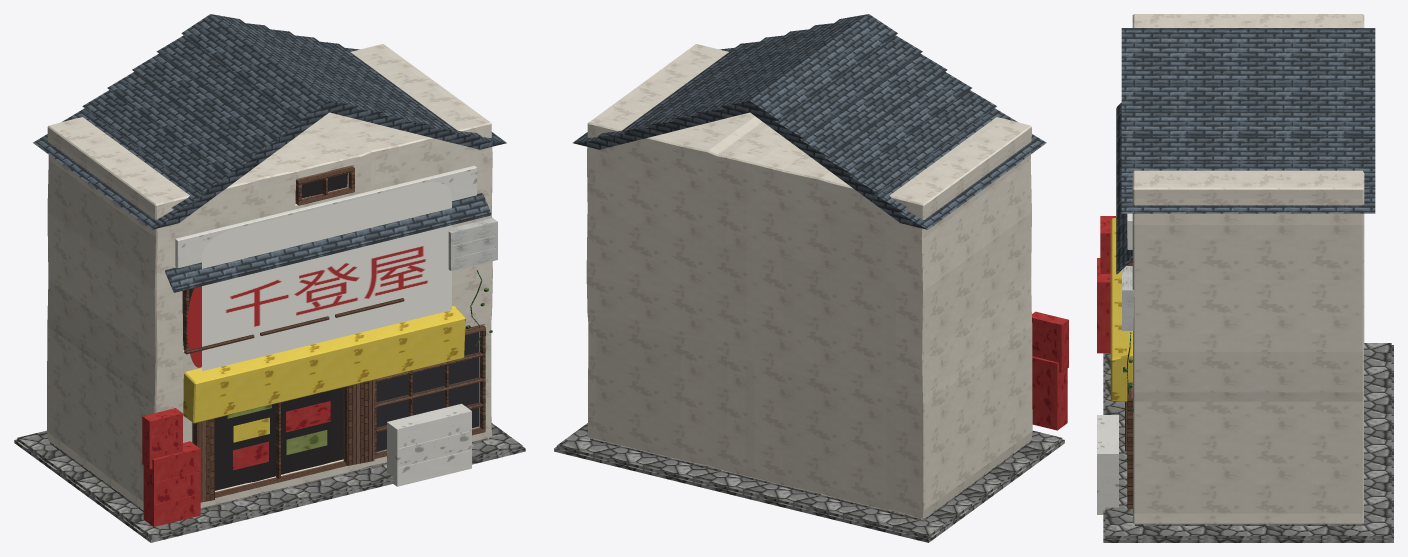
Rendered from twhall.glb.
3 renders of one model, left to right at view 1: azimuth 30°, elevation 25°; view 2: azimuth 150°, elevation 25°; view 3: azimuth 270°, elevation 25°, orthographic. The views are drawn at different scales.
Parts seen in each view (by area): view 1: twhall_facade, twhall_roof_main, twhall_sign_main, twhall_awning, twhall_sidewalk, twhall_pent_roof, twhall_freezer, twhall_grid_glass, twhall_gashapon, twhall_interior_shelves, twhall_sign_board, twhall_pillar_r (+9 smaller); view 2: twhall_facade, twhall_roof_main, twhall_sidewalk, twhall_gashapon, twhall_display_stand, twhall_building_base; view 3: twhall_facade, twhall_roof_main, twhall_sidewalk, twhall_awning, twhall_freezer, twhall_pent_roof, twhall_gashapon, twhall_ac_unit, twhall_grid_window, twhall_display_stand, twhall_building_base.
Boxes of the visible parts, x1,y1,x2,y2 form: twhall_facade: [47, 44, 492, 509]; twhall_roof_main: [33, 14, 506, 229]; twhall_sign_main: [202, 182, 451, 371]; twhall_awning: [183, 306, 465, 423]; twhall_sidewalk: [14, 423, 525, 542]; twhall_pent_roof: [165, 193, 491, 292]; twhall_freezer: [387, 403, 471, 486]; twhall_grid_glass: [376, 332, 480, 452]; twhall_gashapon: [143, 441, 200, 526]; twhall_interior_shelves: [227, 401, 330, 470]; twhall_sign_board: [175, 165, 477, 268]; twhall_pillar_r: [343, 380, 374, 465]; twhall_facade: [586, 44, 1032, 519]; twhall_roof_main: [573, 14, 1046, 229]; twhall_sidewalk: [554, 423, 1064, 542]; twhall_gashapon: [1032, 356, 1067, 430]; twhall_display_stand: [1032, 311, 1068, 372]; twhall_building_base: [590, 438, 1029, 521]; twhall_facade: [1132, 14, 1364, 524]; twhall_roof_main: [1121, 28, 1375, 213]; twhall_sidewalk: [1103, 343, 1393, 542]; twhall_awning: [1110, 217, 1132, 401]; twhall_freezer: [1097, 415, 1118, 514]; twhall_pent_roof: [1116, 102, 1132, 274]; twhall_gashapon: [1097, 258, 1110, 353]; twhall_ac_unit: [1122, 266, 1135, 330]; twhall_grid_window: [1127, 382, 1132, 508]; twhall_display_stand: [1100, 216, 1115, 273]; twhall_building_base: [1135, 524, 1361, 525].
Bounding box in the file's own units: 8.46 × 8.38 × 5.41.
13 materials, 12 textured.
